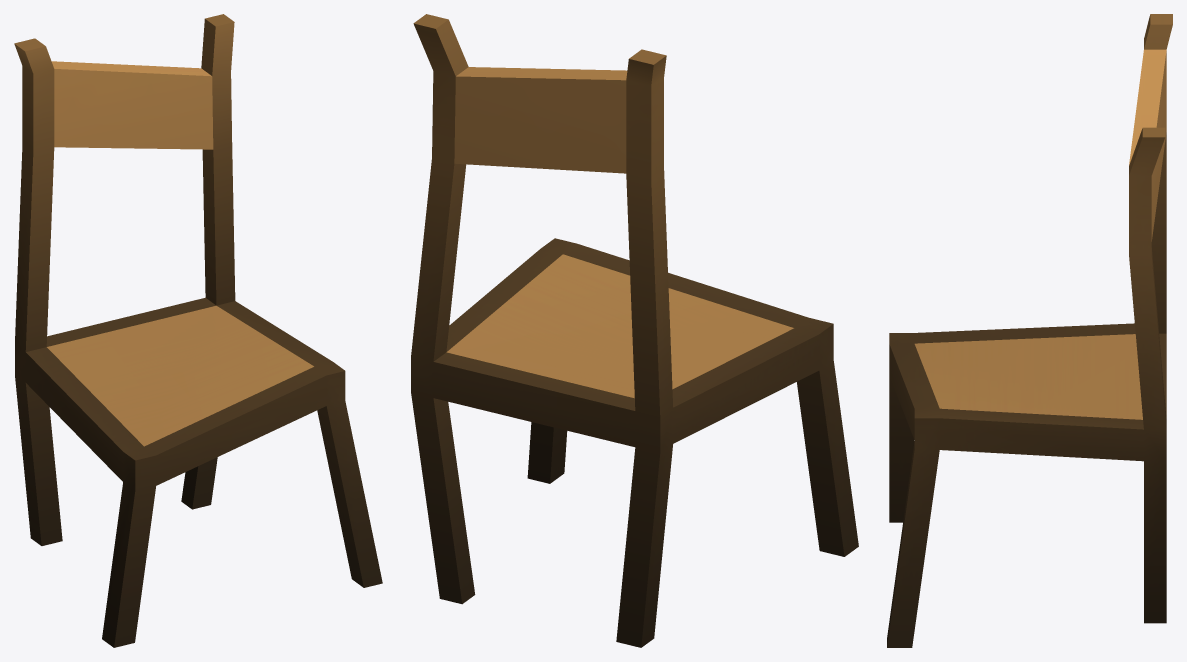
The model's file is sedia.fbx.
3 views of the same model, side by side, from view 1: azimuth 30°, elevation 25°; view 2: azimuth 150°, elevation 25°; view 3: azimuth 270°, elevation 25° (orthographic). The views are drawn at different scales.
Parts seen in each view (by area): view 1: SM_sedia; view 2: SM_sedia; view 3: SM_sedia.
Boxes of the visible parts, x1,y1,x2,y2 form: SM_sedia: [14, 14, 382, 647]; SM_sedia: [411, 14, 858, 647]; SM_sedia: [887, 14, 1172, 647].
Size of the model in its own units: 126 by 222 by 112.
